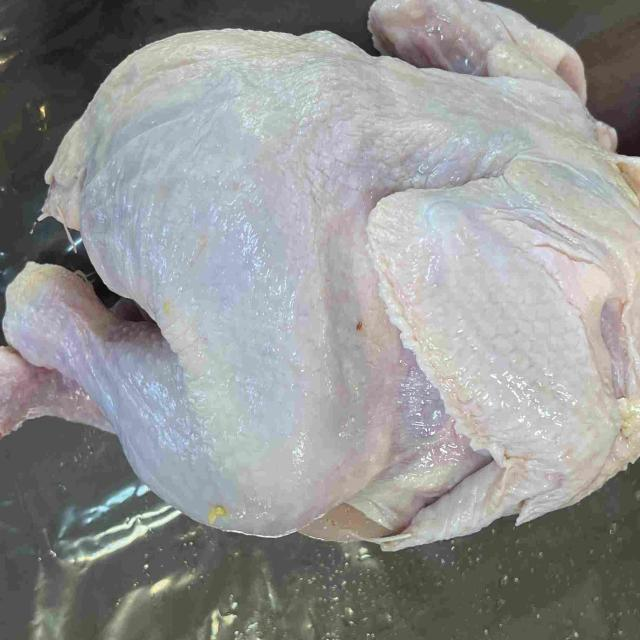back: (37, 27, 567, 275)
leg: (2, 222, 393, 537)
wing: (369, 167, 615, 548), (369, 0, 588, 95)
